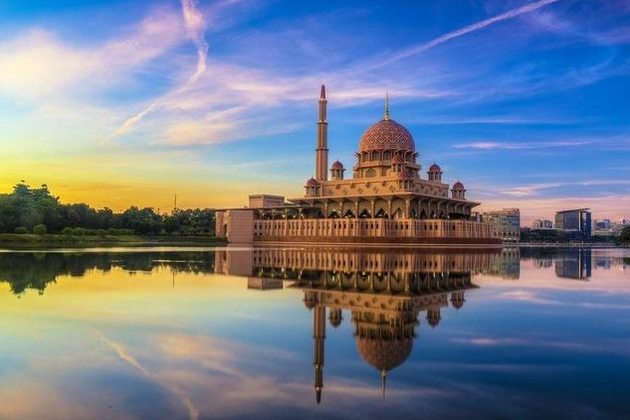Mosque: (231, 81, 491, 258)
